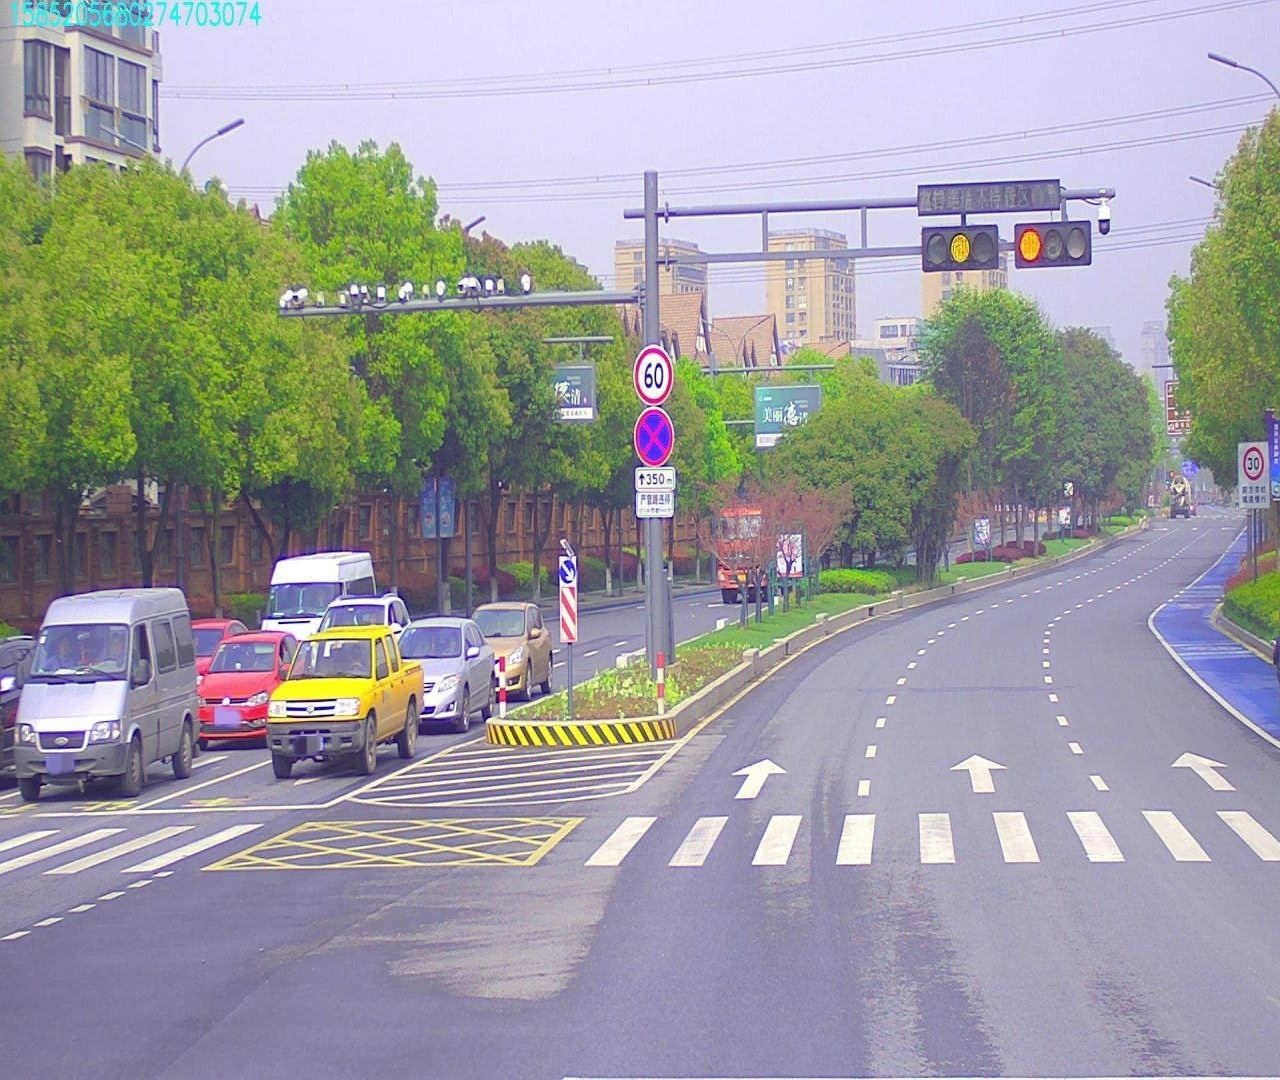red: (1018, 219, 1088, 270)
yellow: (927, 231, 997, 269)
